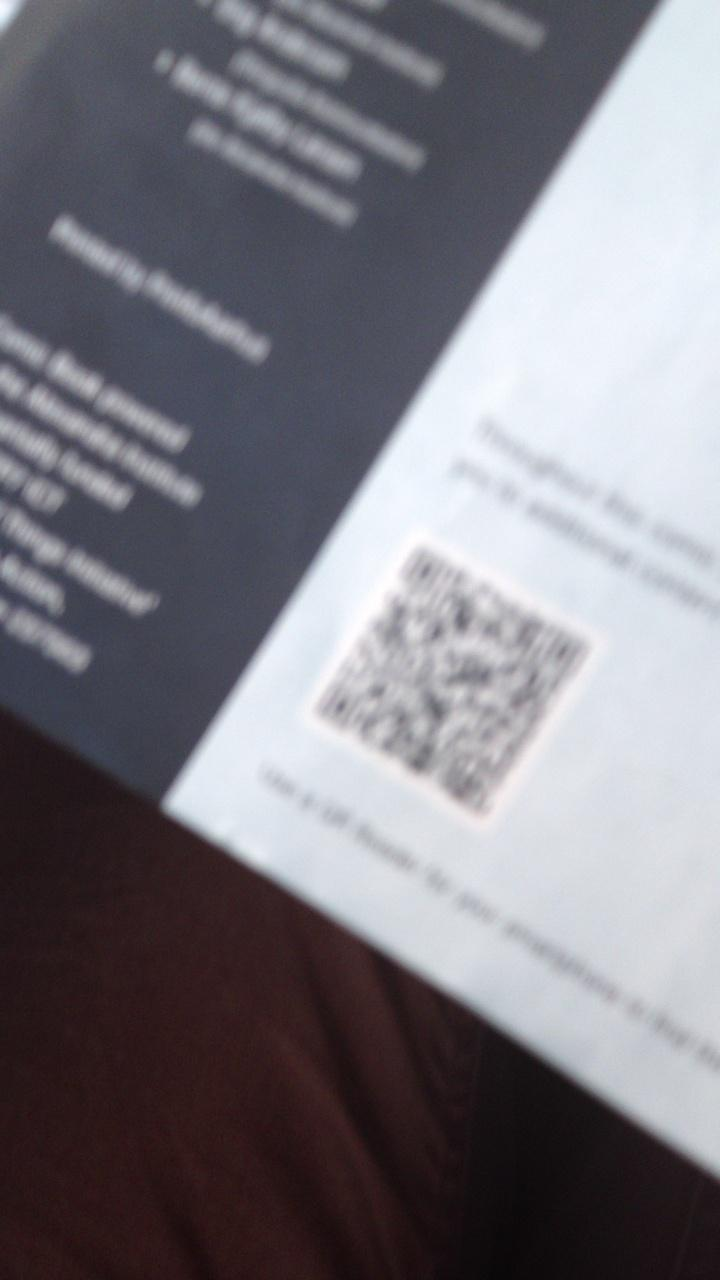Finder pattern: (401, 542, 447, 596), (314, 677, 360, 730), (540, 627, 586, 674)
